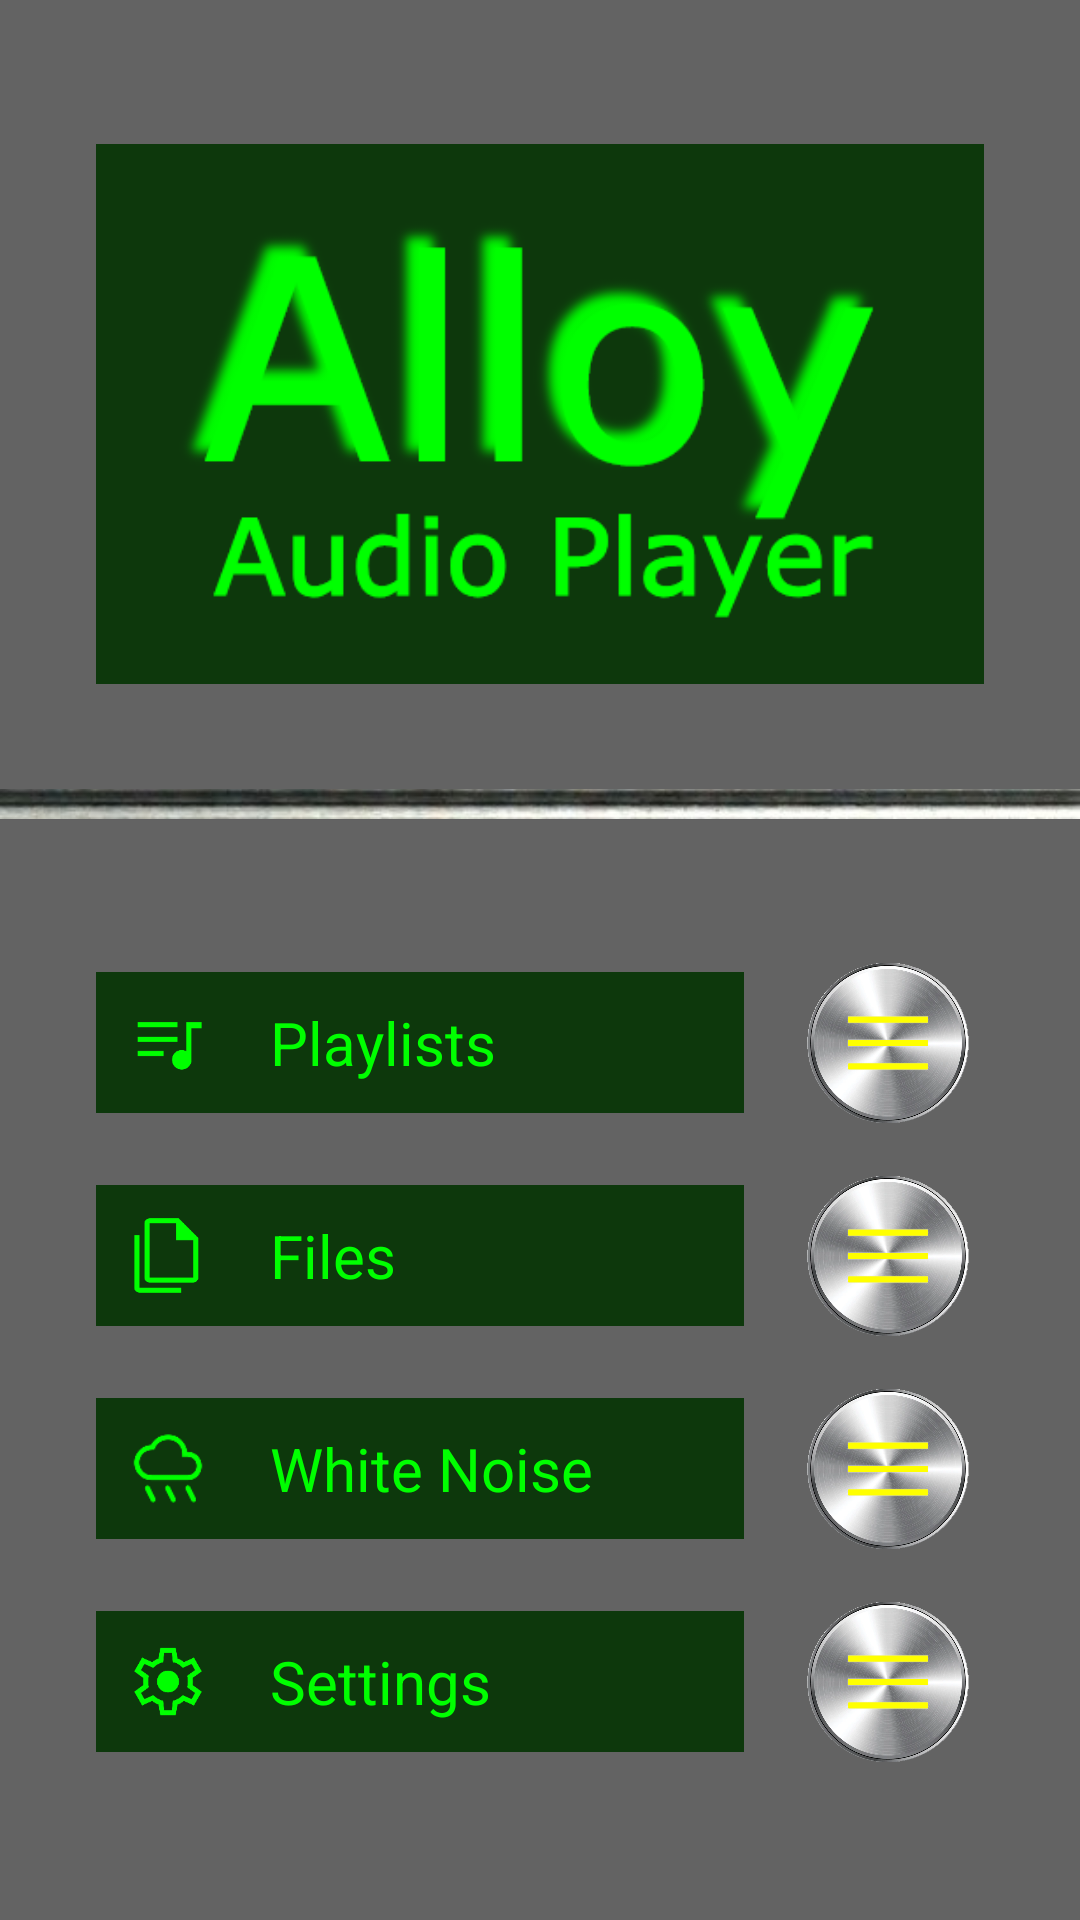

Locate icon controls on the screen. Image size 1080px×1920px, boxes as (x1,y1,x2,y2).
menu: (807,963,969,1123), (807,1176,969,1336), (807,1389,969,1549), (807,1602,969,1762)
queue: (96,972,240,1113)
